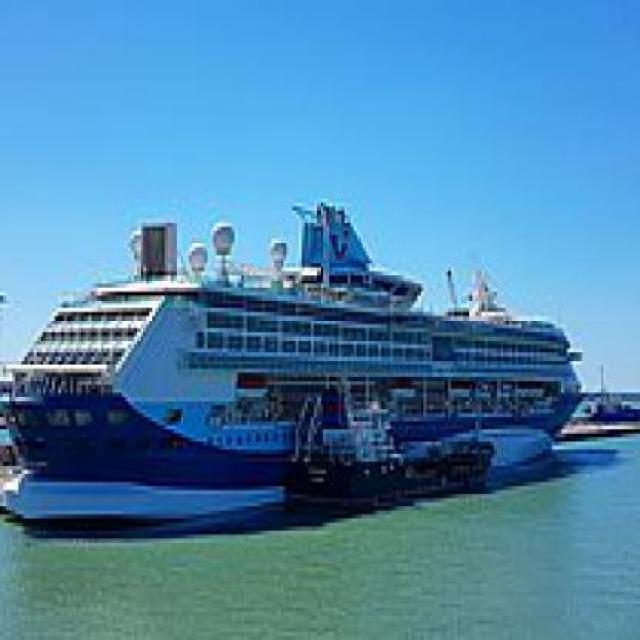cruise: (7, 187, 613, 560)
